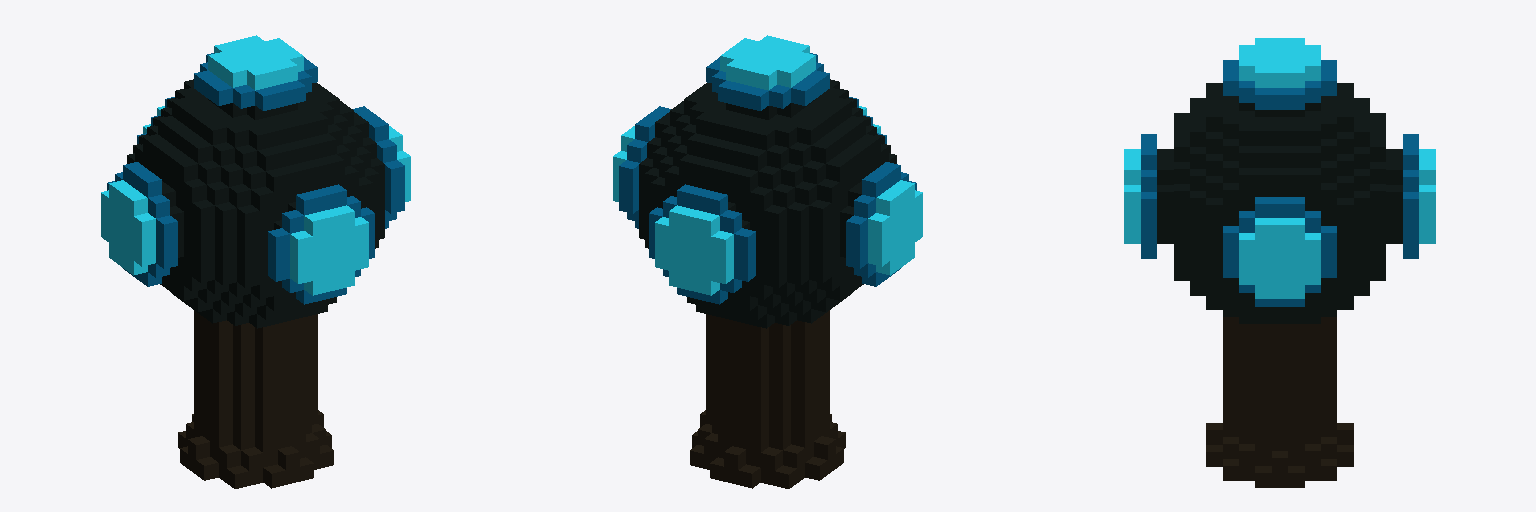
3 views of the same model, side by side, from view 1: azimuth 30°, elevation 25°; view 2: azimuth 150°, elevation 25°; view 3: azimuth 270°, elevation 25° (orthographic).
Parts seen in each view (by area): view 1: object 1; view 2: object 1; view 3: object 1.
Boxes of the visible parts, box(x1,y1,x2,y2) form: object 1: box(101, 35, 410, 488); object 1: box(613, 35, 922, 488); object 1: box(1124, 38, 1435, 487).
Size of the model in its own units: 1.9 by 2.7 by 1.9.
1 materials, 1 textured.